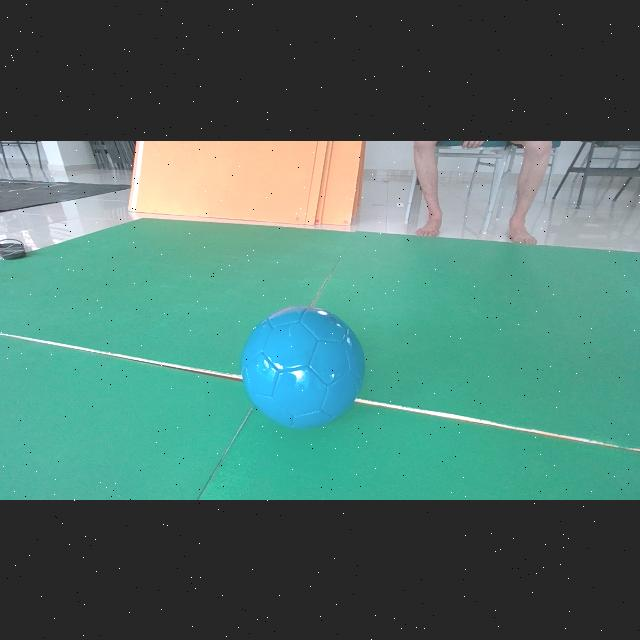B: (241, 306, 364, 428)
